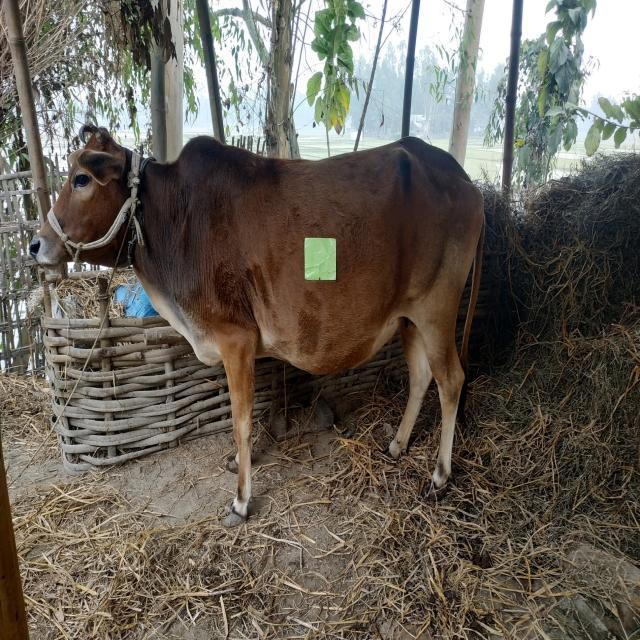badan_sapi: (186, 138, 488, 379)
sapi: (18, 108, 492, 530)
